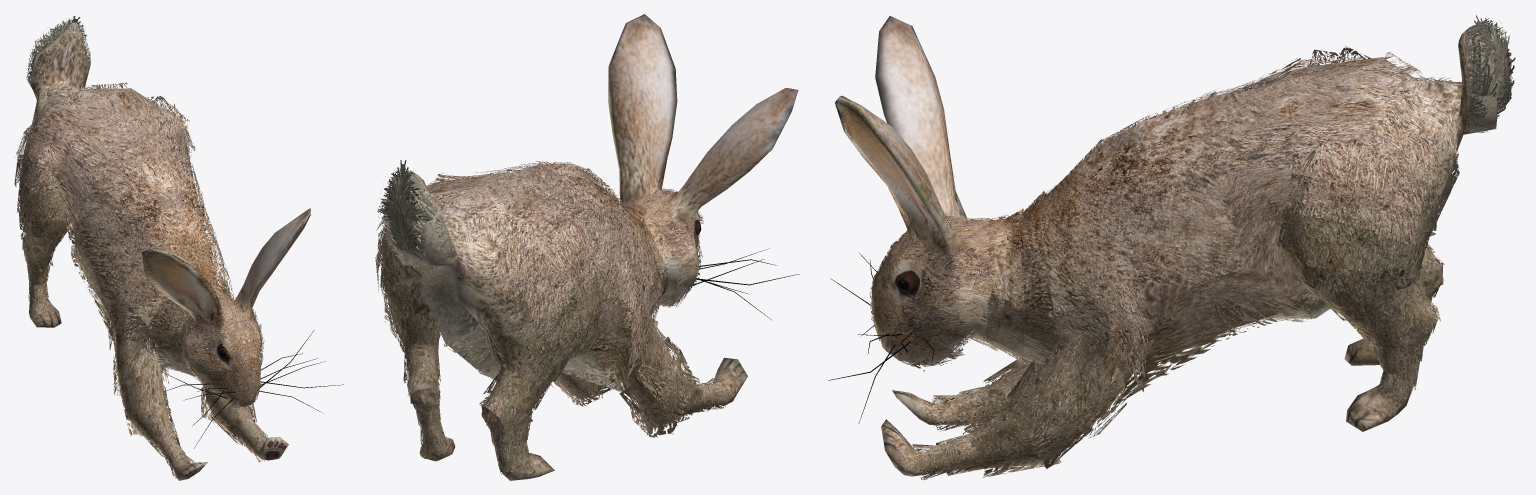
Rendered from rabbit20022.obj.
3 views of the same model, side by side, from view 1: azimuth 30°, elevation 25°; view 2: azimuth 150°, elevation 25°; view 3: azimuth 270°, elevation 25° (orthographic). The views are drawn at different scales.
Visible parts, largest first — view 1: Rabbit, Fur; view 2: Rabbit, Fur; view 3: Rabbit, Fur.
Boxes of the visible parts, x1,y1,x2,y2 form: Rabbit: [20, 32, 343, 480]; Fur: [14, 16, 268, 478]; Rabbit: [382, 14, 799, 480]; Fur: [375, 160, 731, 474]; Rabbit: [828, 16, 1511, 476]; Fur: [869, 15, 1515, 479].
Bounding box in the file's own units: 8.44 × 13.67 × 18.22.
